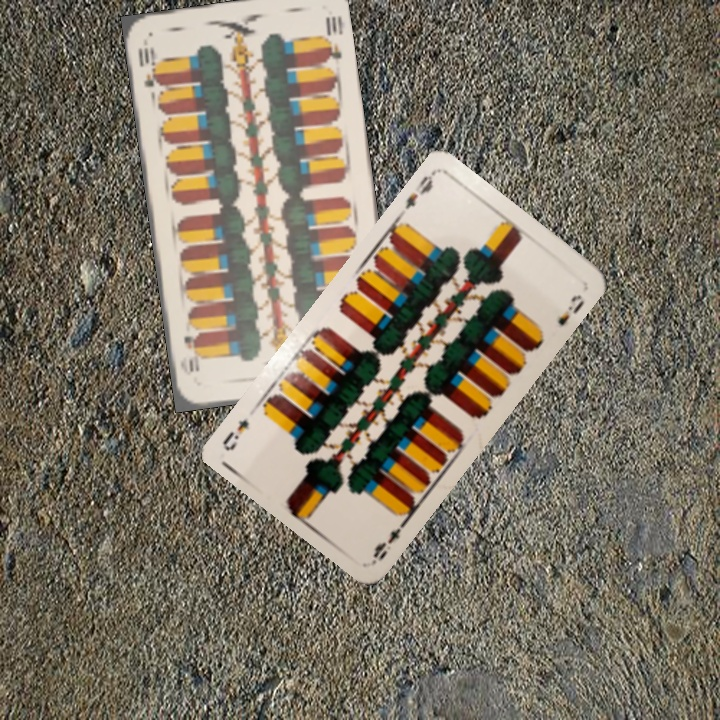E10: (134, 43, 164, 90)
E9: (369, 514, 411, 565), (400, 168, 438, 213)
